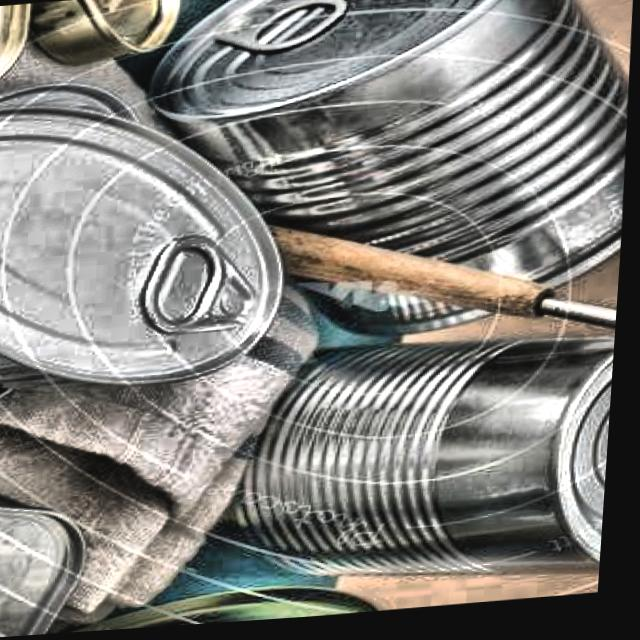metal: (128, 0, 640, 365), (218, 326, 621, 618), (0, 82, 315, 415), (0, 71, 150, 431), (0, 436, 112, 640)
